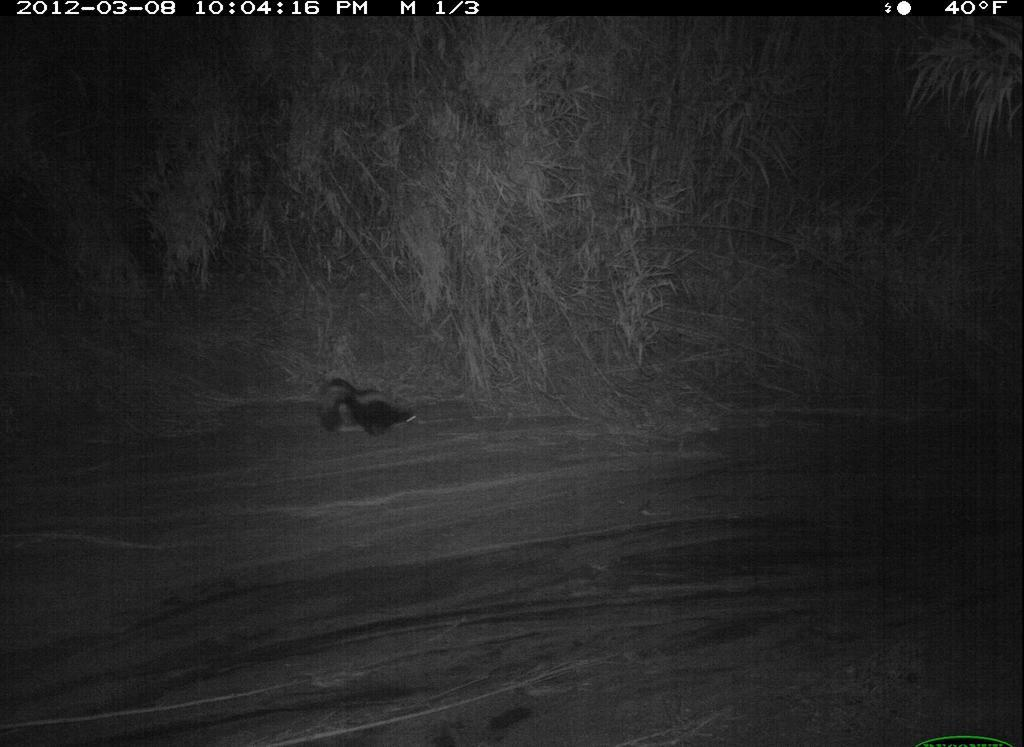skunk: (310, 370, 434, 452)
